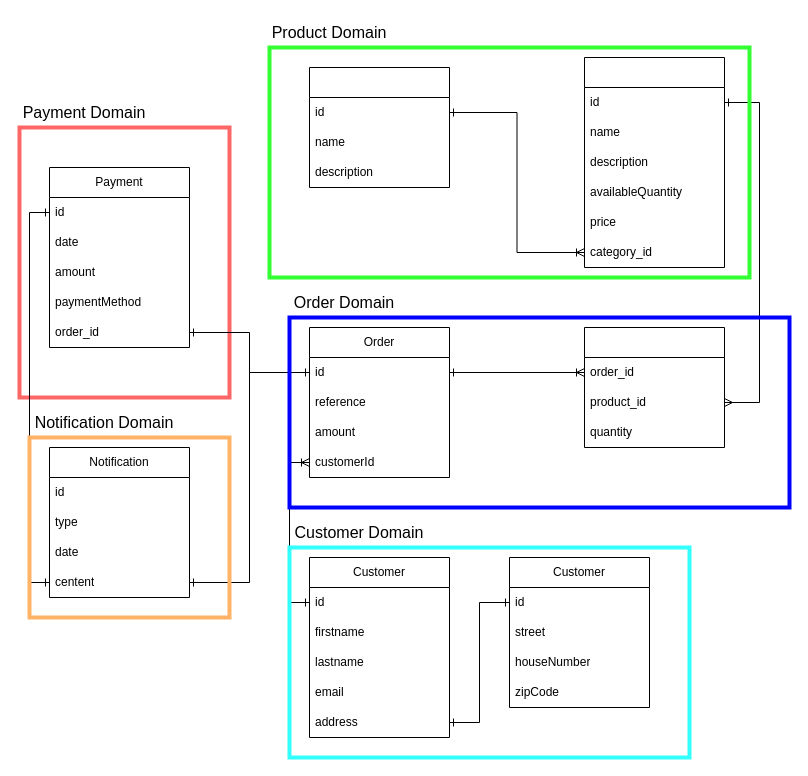
Some shapes in this 808 by 776 pixel diagram are drawn without their labels. The shapes that lost their labels are listed below. From the top down, each one's box as (x1, y1, x2, y2) in pixels, then its label:
(308, 66, 450, 188): Category
(584, 56, 724, 268): Product
(584, 326, 724, 448): OrderLine
